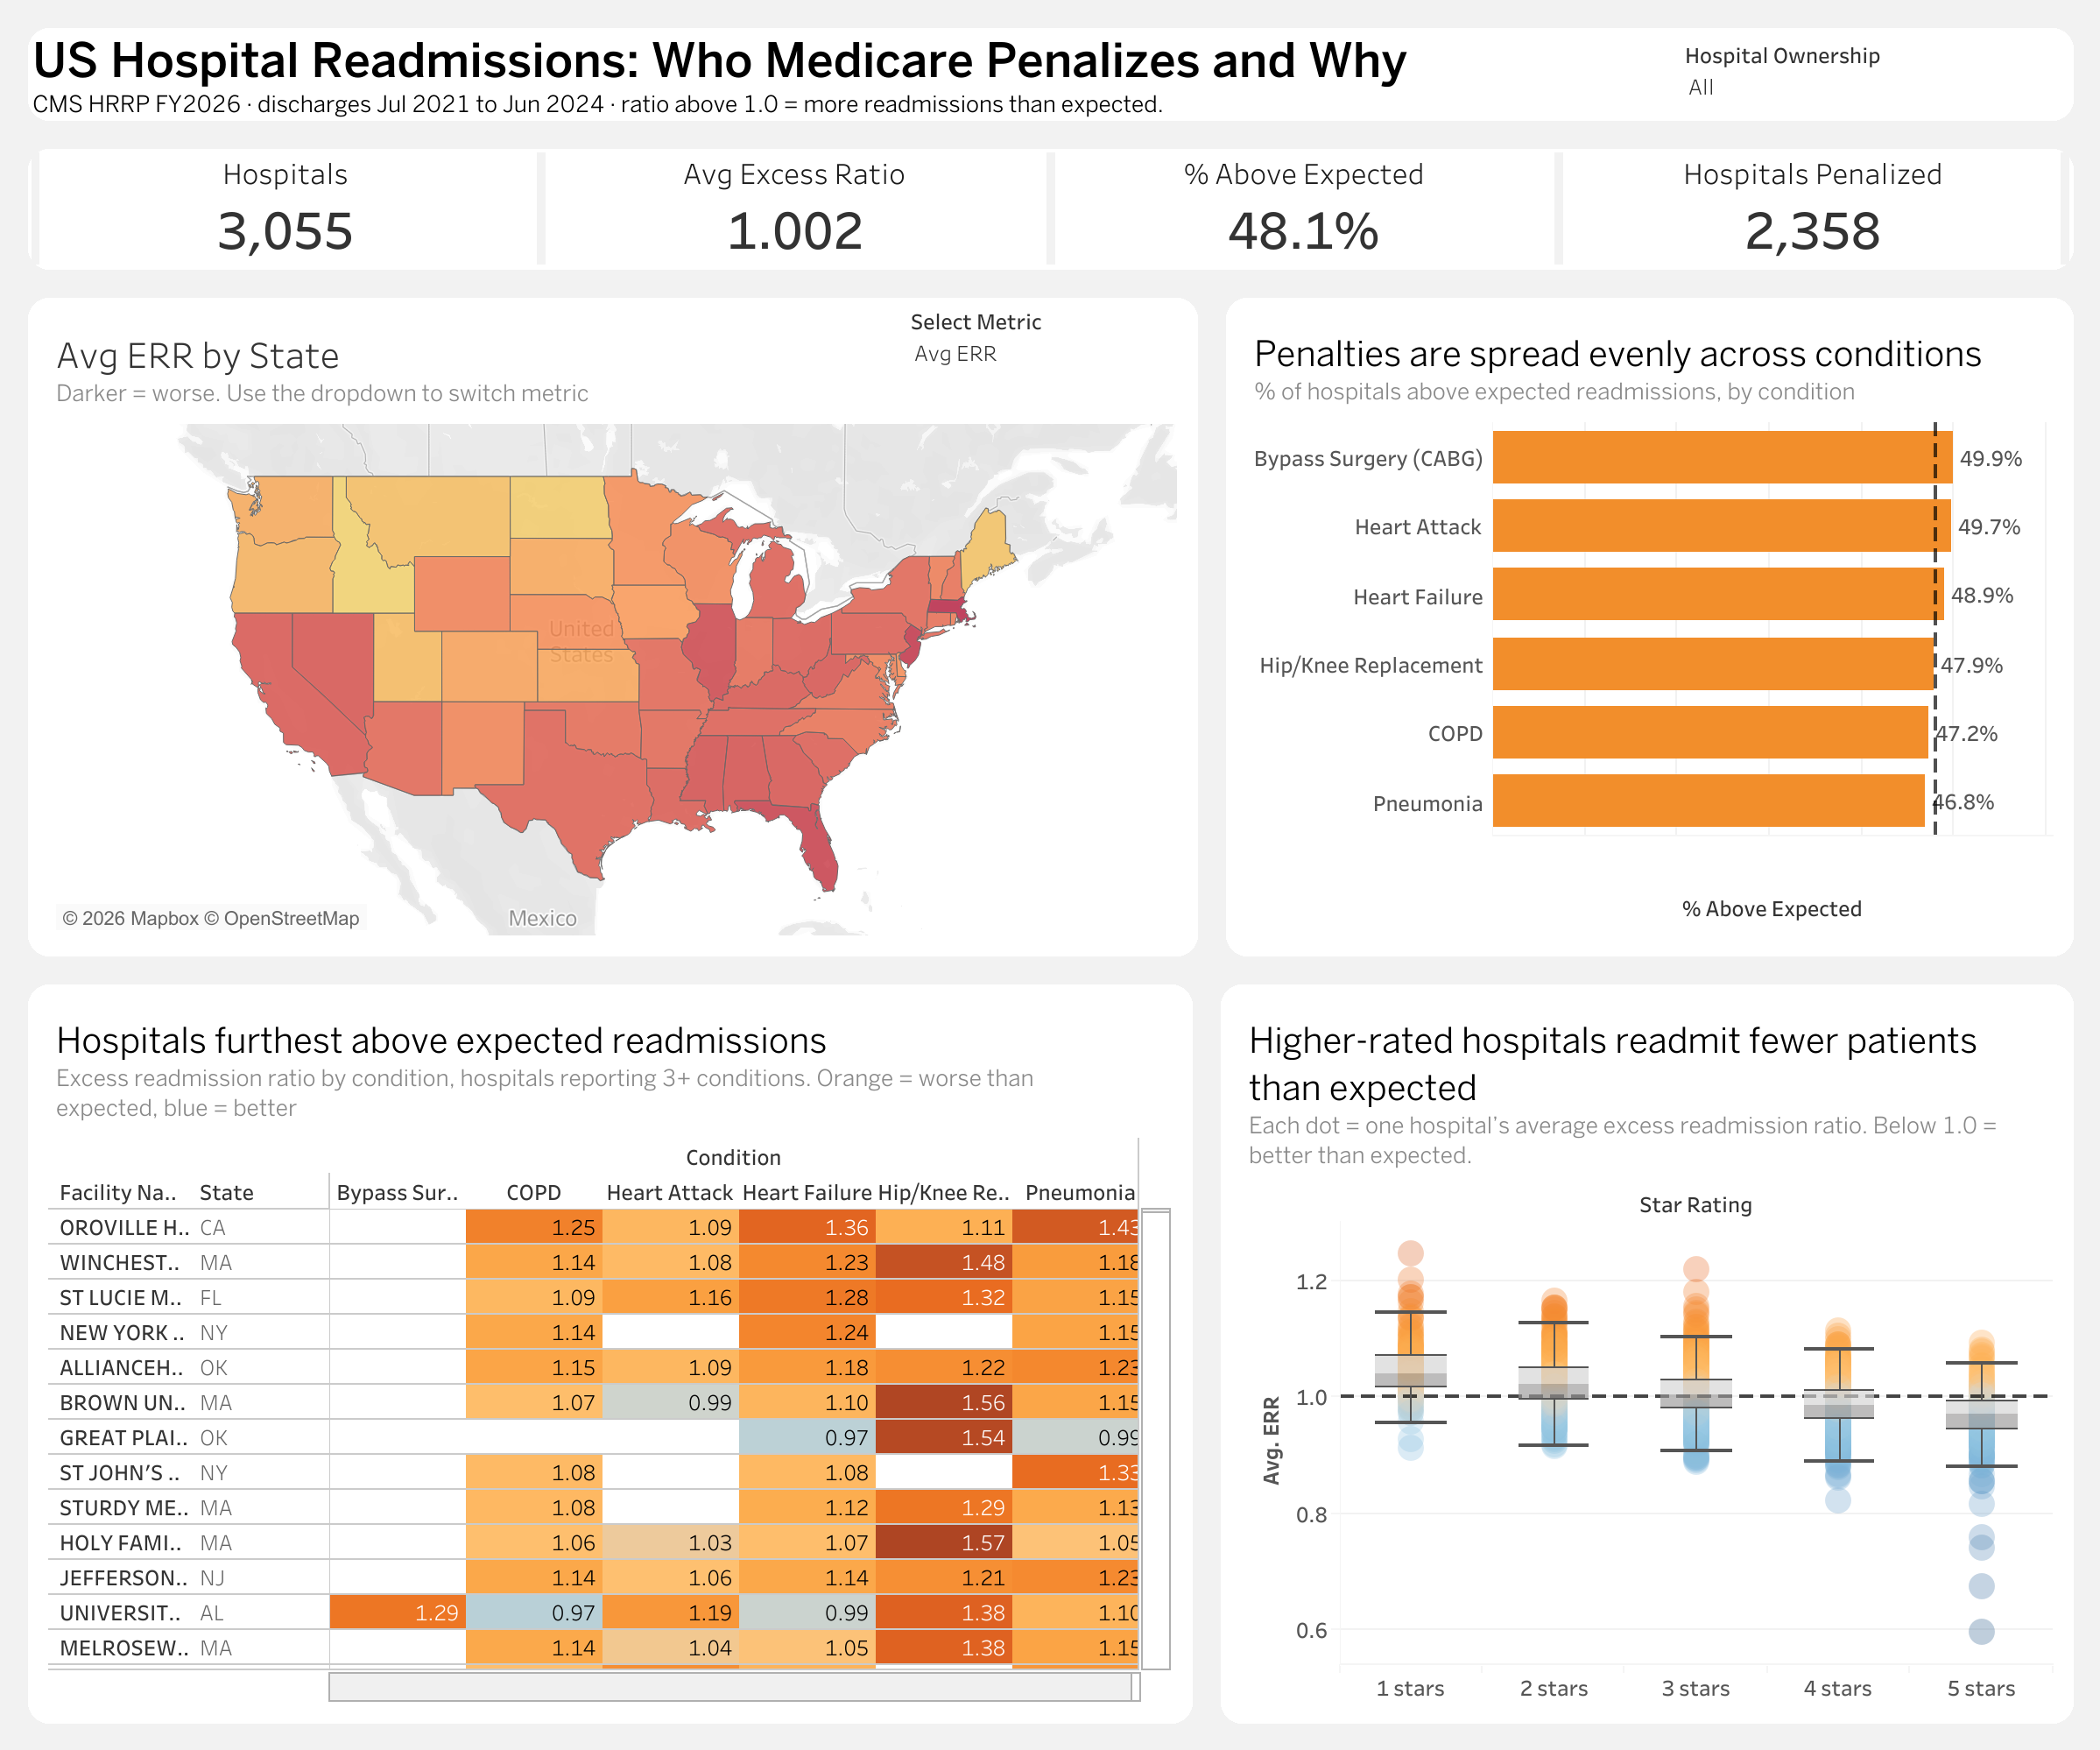

This screenshot's page, from the dashboard's own definition file:
{"tool":"tableau","page":{"name":"US Hospital Readmissions","canvas":[1200,1000],"ordinal":0},"visuals":[{"type":"text","box":[8,8,1184,69]},{"type":"filter","title":"KPIs. How big is the problem?","param":"[federated.1legm3a1l44llo11huuxf0x5pfox].[none:Hospital Ownership:nk]","box":[962,21,135,44]},{"type":"worksheet","title":"KPIs. How big is the problem?","mark":"Text","box":[8,77,1184,85]},{"type":"worksheet","title":"State Map. Where are readmission worst?","mark":"Multipolygon","box":[8,162,684,392]},{"type":"worksheet","title":"By Condition. Which conditions drive penalties?","mark":"Automatic","rows":["Calculation_0379597516480516"],"cols":["Calculation_0379597518245896"],"box":[692,162,500,392]},{"type":"parameter","param":"[Parameters].[Parameter 0379597519540236]","box":[520,173,149,44]},{"type":"worksheet","title":"Hospital Detail. Which hospitals need attention?","mark":"Square","rows":["Facility Name","State"],"cols":["Calculation_0379597516480516"],"box":[8,554,681,438]},{"type":"worksheet","title":"Star Rating vs ERR. Do better-rated hospitals readmit less?","mark":"Circle","rows":["Calculation_0379597515411457"],"cols":["Calculation_0379597517434885"],"box":[689,554,503,438]}]}

Visuals, with their boxes in screenshot pixels (x1, y1, x2, y2), scaled from the page's 1200x1000 canvas onto the 2100x1750 screenshot:
text: 14, 14, 2086, 135
"KPIs. How big is the problem?" filter: 1683, 37, 1920, 114
"KPIs. How big is the problem?" worksheet (Text marks): 14, 135, 2086, 284
"State Map. Where are readmission worst?" worksheet (Multipolygon marks): 14, 284, 1211, 970
"By Condition. Which conditions drive penalties?" worksheet: 1211, 284, 2086, 970
parameter: 910, 303, 1171, 380
"Hospital Detail. Which hospitals need attention?" worksheet (Square marks): 14, 970, 1206, 1736
"Star Rating vs ERR. Do better-rated hospitals readmit less?" worksheet (Circle marks): 1206, 970, 2086, 1736
